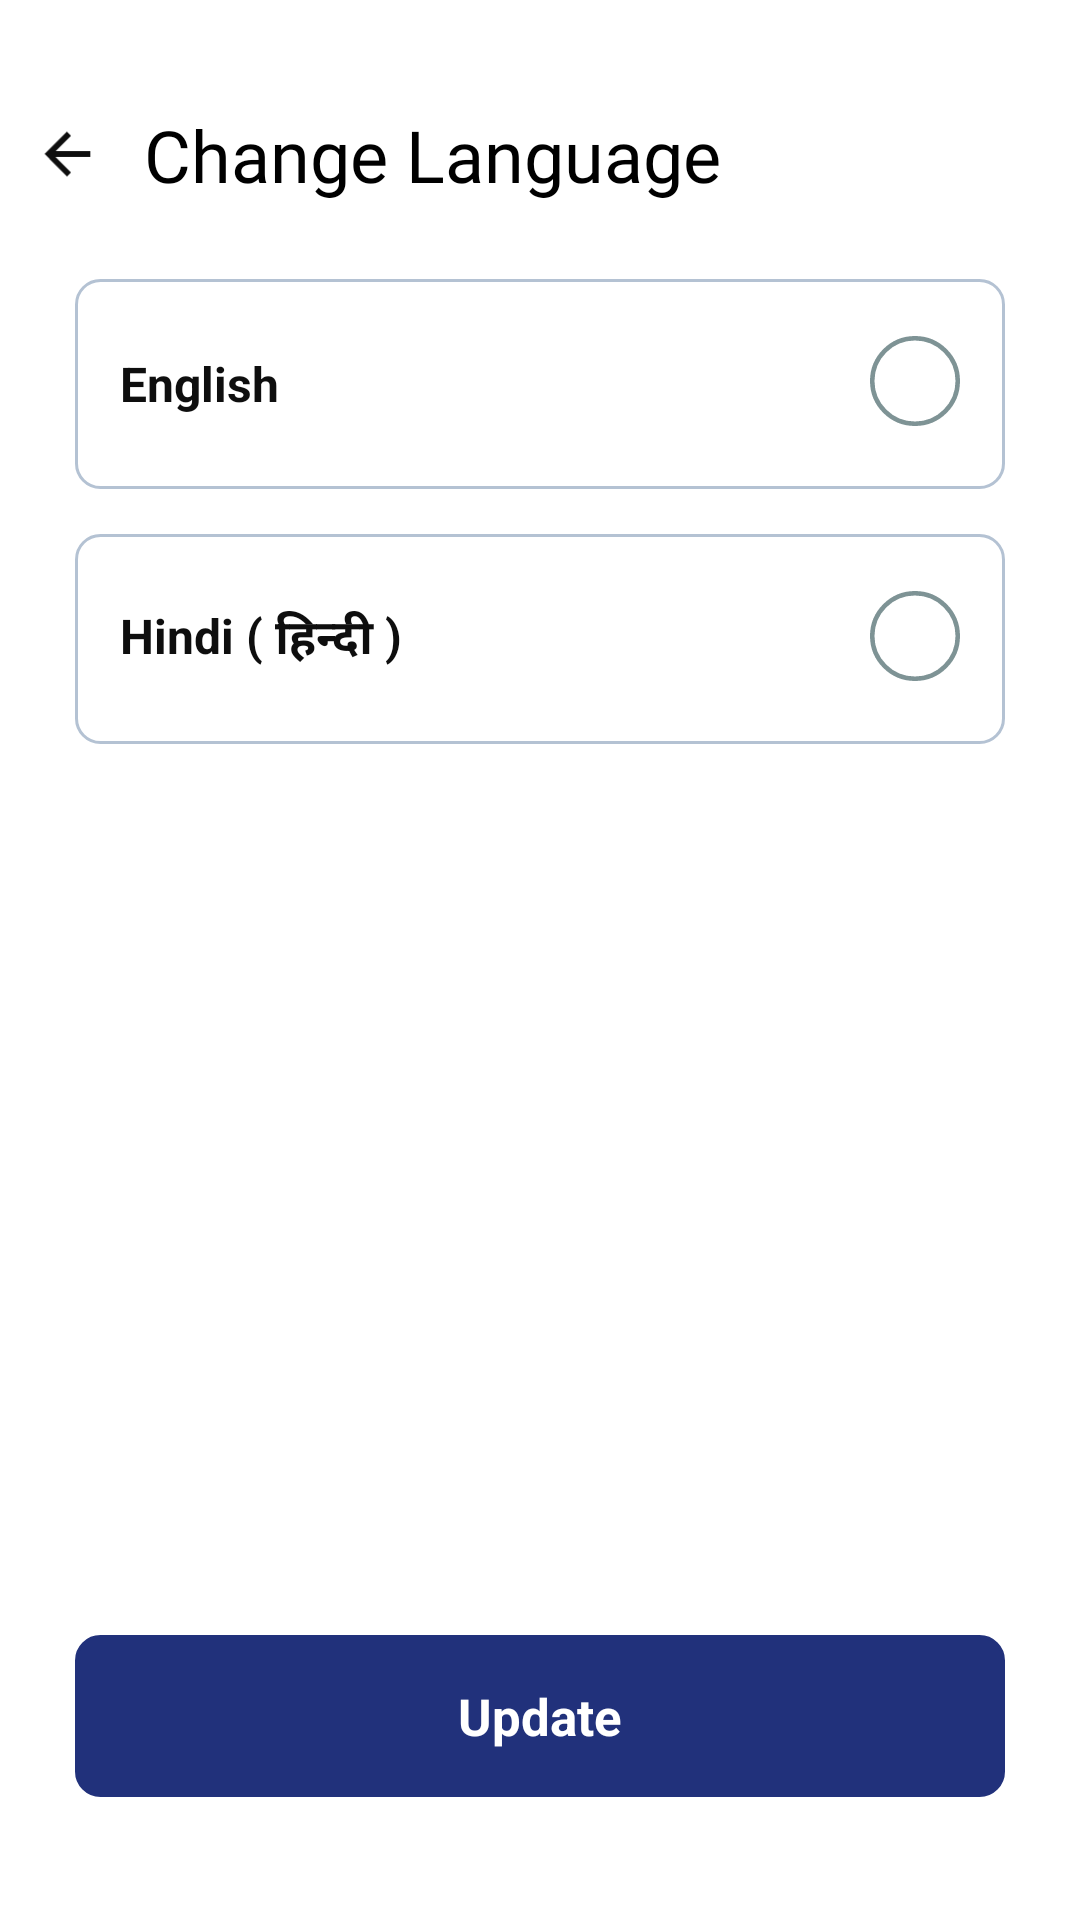

Locate icon controls on the screen. Image size 1080x1920, boxes as (x1, y1, x2, y2).
back: (44, 131, 91, 177)
